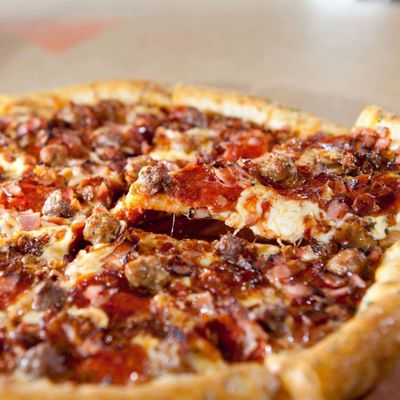sandwich: (0, 76, 400, 399)
